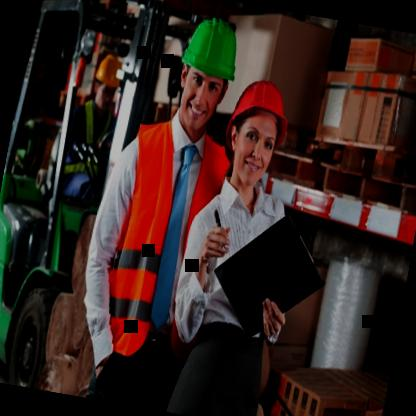helmet: (162, 2, 251, 144), (218, 64, 298, 188), (89, 52, 126, 110)
